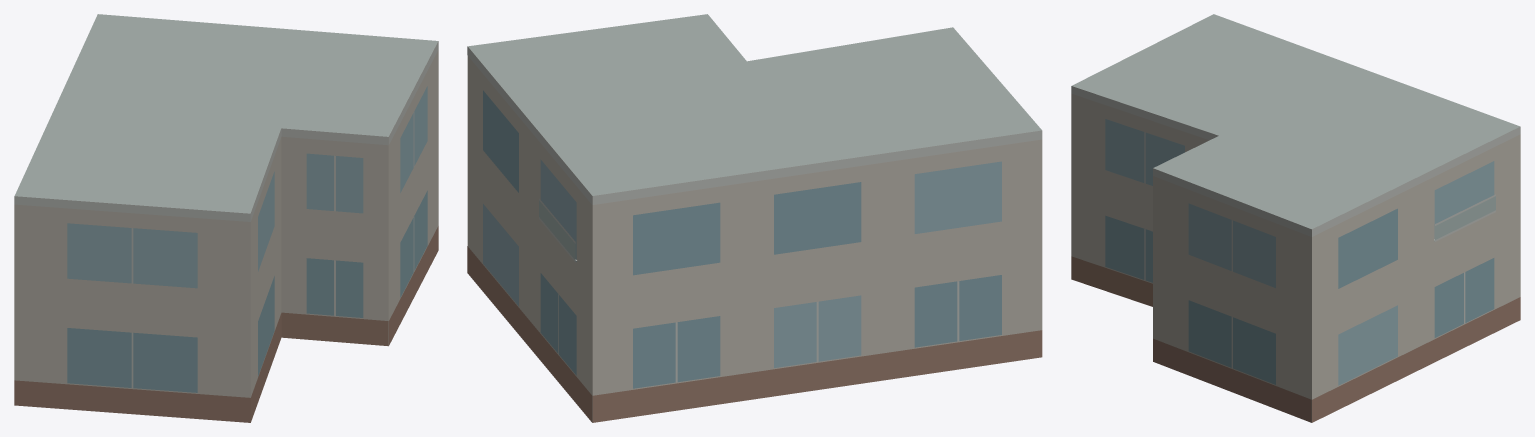
Rendered from survey-upis-32667559.glb.
3 renders of one model, left to right at view 1: azimuth 30°, elevation 25°; view 2: azimuth 150°, elevation 25°; view 3: azimuth 270°, elevation 25°, orthographic. The views are drawn at different scales.
Parts seen in each view (by area): view 1: survey-upis-32667559.tmp; view 2: survey-upis-32667559.tmp; view 3: survey-upis-32667559.tmp.
Boxes of the visible parts, left/top/right/bottom form: survey-upis-32667559.tmp: left=14, top=14, right=438, bottom=422; survey-upis-32667559.tmp: left=467, top=14, right=1042, bottom=422; survey-upis-32667559.tmp: left=1071, top=14, right=1520, bottom=422.
Size of the model in its own units: 14.57 by 6.1 by 12.84.
